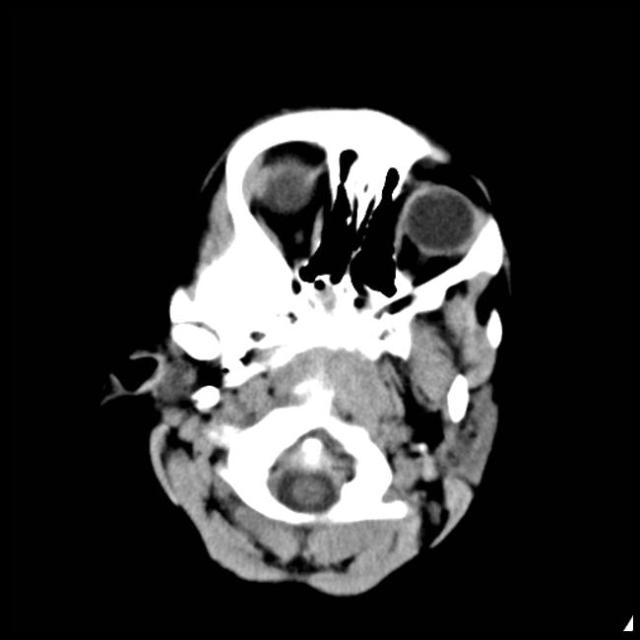lesion: (99, 102, 518, 600)
